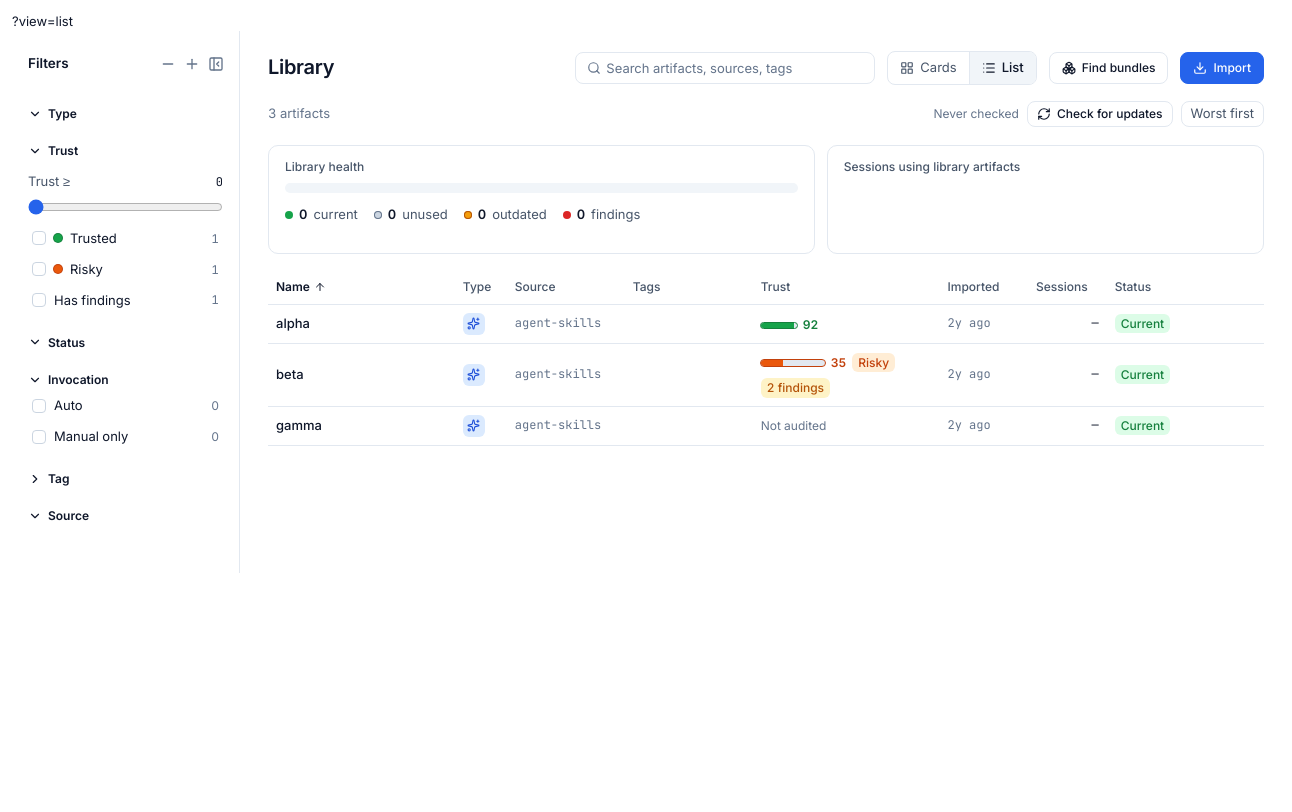
it: trust in the library › sorts by trust from the chips and the list column
The image size is (1292, 812).
Expected: the button "alpha" is shown, [276,314,326,333]
Click the 2nd button "Trust" at (776, 287), box [761,278,790,296]
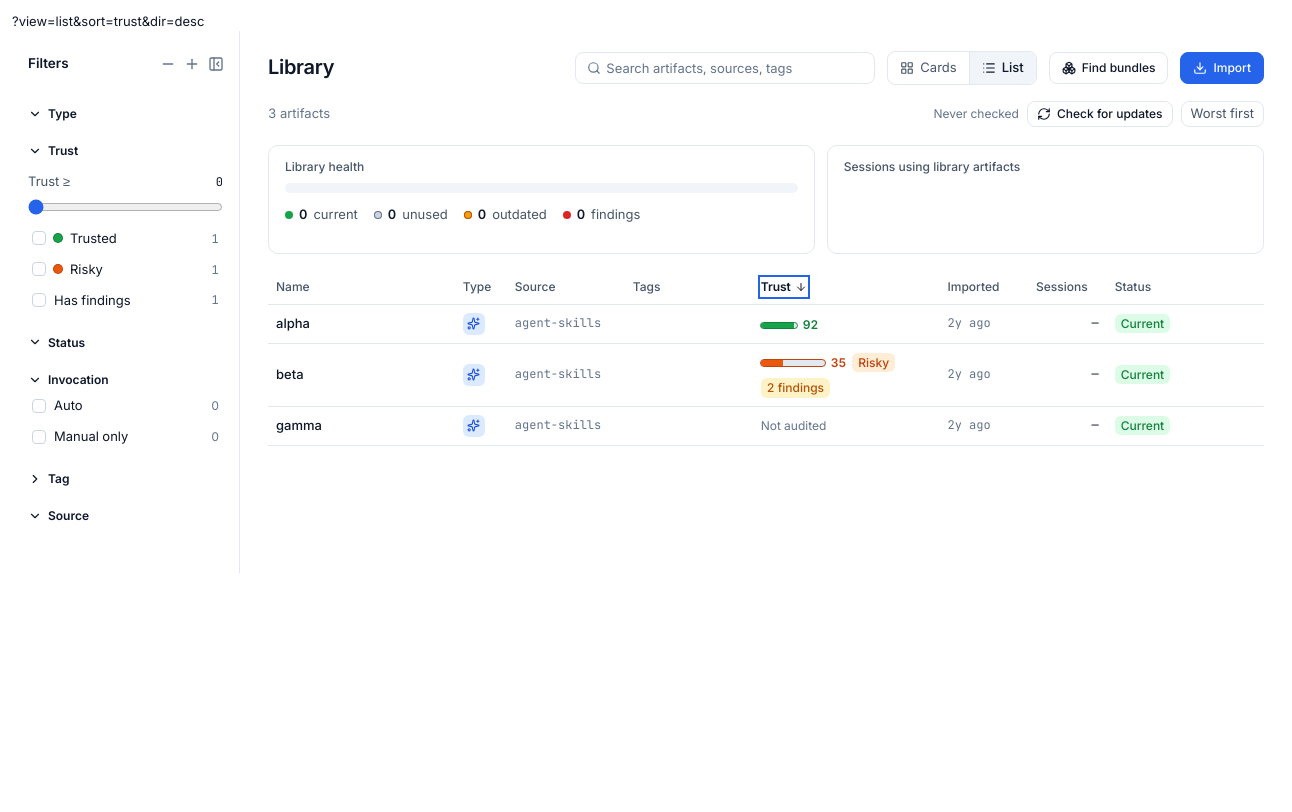
Now the text with test id "search" shows "sort=trust&dir=desc", box [12,13,204,29]
